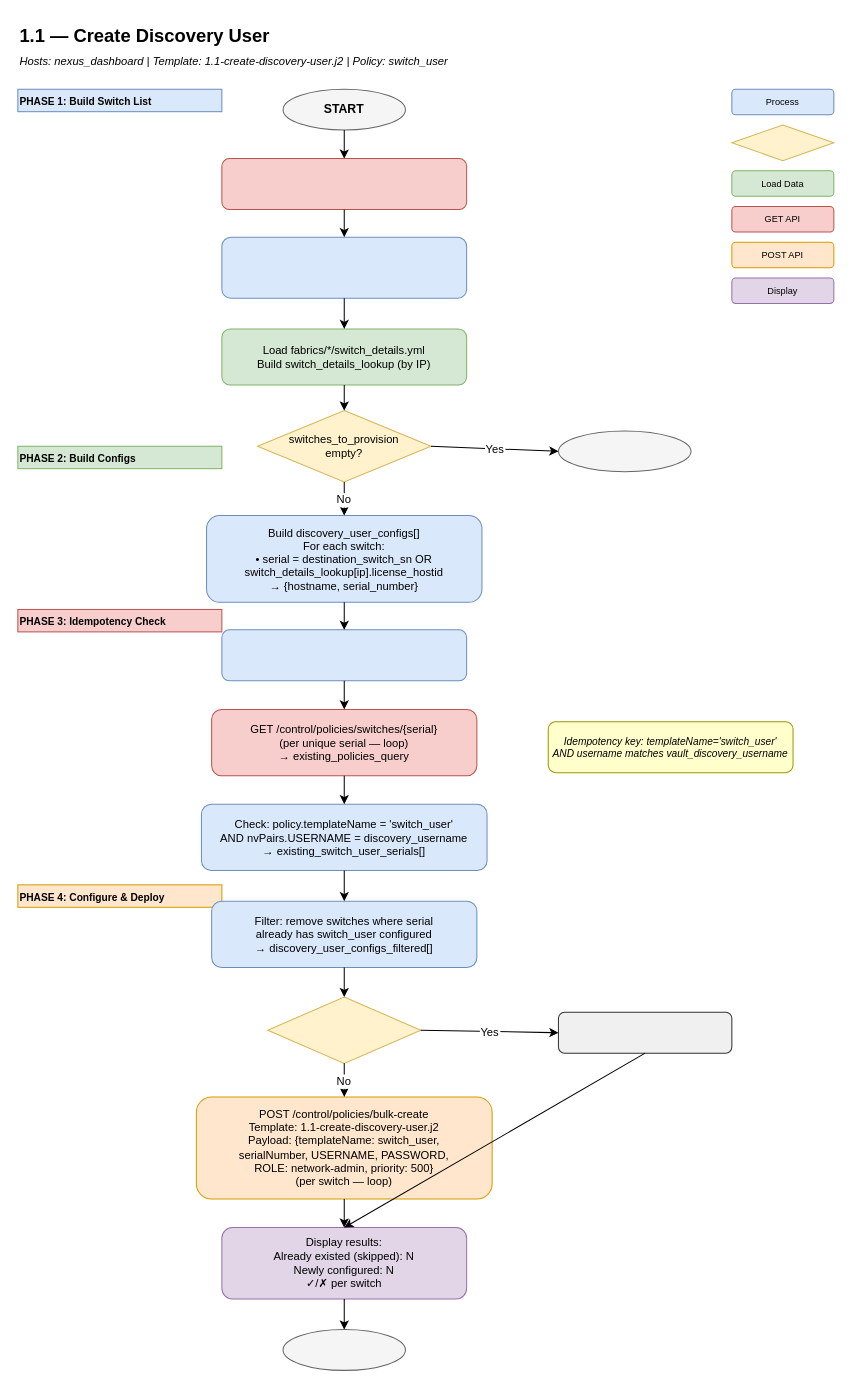
This 852x1388 diagram has some shape labels left out. Each missing label, with the centre of its shape:
Decision: (782,142)
Deduplicate serial numbers → unique_serials[]: (344,655)
END: (343,1349)
END (no switches): (624,451)
Filter inventory: switches where add_to_fabric = true → switches_to_provision: (344,267)
filtered list empty?: (344,1029)
Pre-flight: Verify NDFC reachable GET /fabrics: (344,184)
Skip (all already configured): (644,1032)
